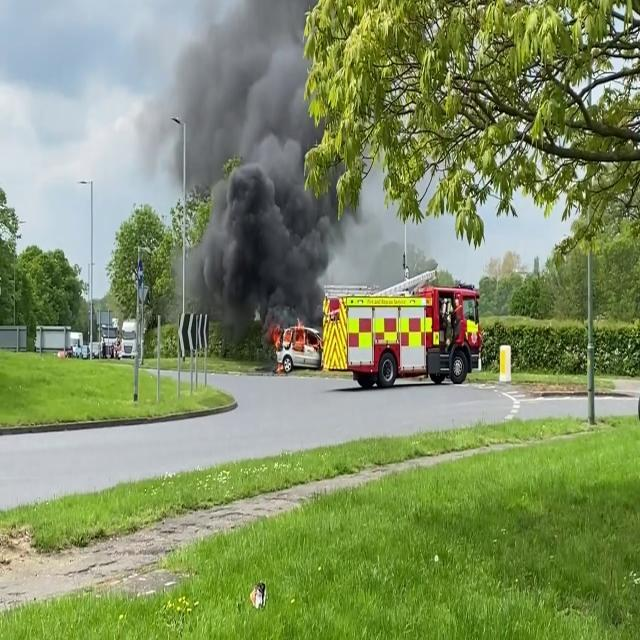Smoke: (165, 1, 355, 337)
